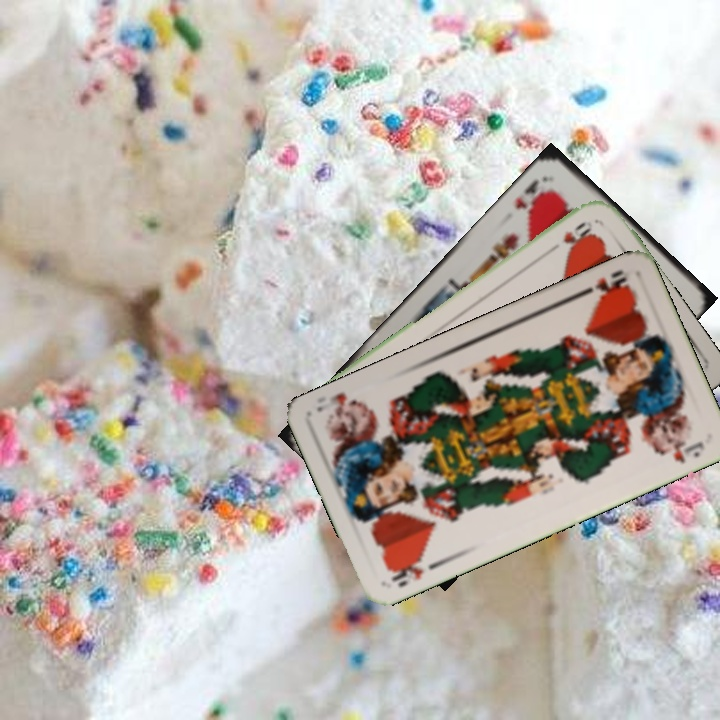HK: (511, 172, 554, 215)
HO: (383, 552, 443, 590), (575, 265, 632, 301), (545, 218, 595, 255)
